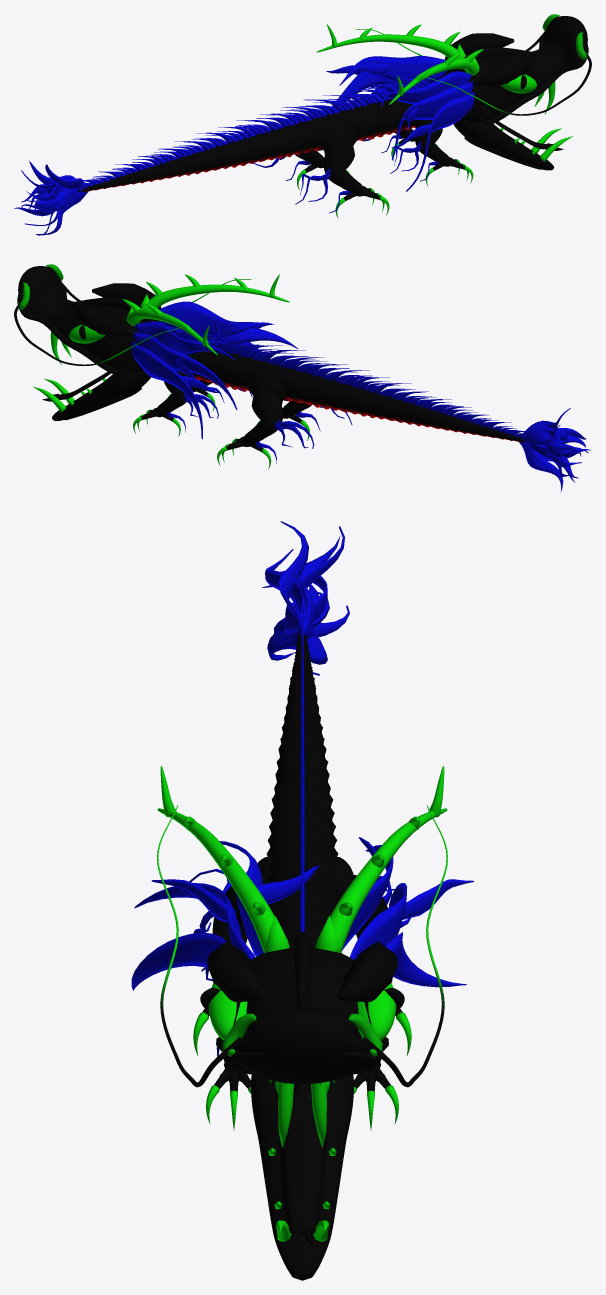
The model's file is dragon200e.glb.
3 renders of one model, top to bottom at view 1: azimuth 30°, elevation 25°; view 2: azimuth 150°, elevation 25°; view 3: azimuth 270°, elevation 25°, orthographic. The views are drawn at different scales.
Visible parts, largest first — view 1: d200e-dragon; view 2: d200e-dragon; view 3: d200e-dragon.
Boxes of the visible parts, x1=… form: d200e-dragon: x1=14, y1=14, x2=591, y2=235; d200e-dragon: x1=14, y1=264, x2=591, y2=492; d200e-dragon: x1=131, y1=521, x2=474, y2=1280.
Bounding box in the file's own units: 32 × 9.07 × 8.52.
